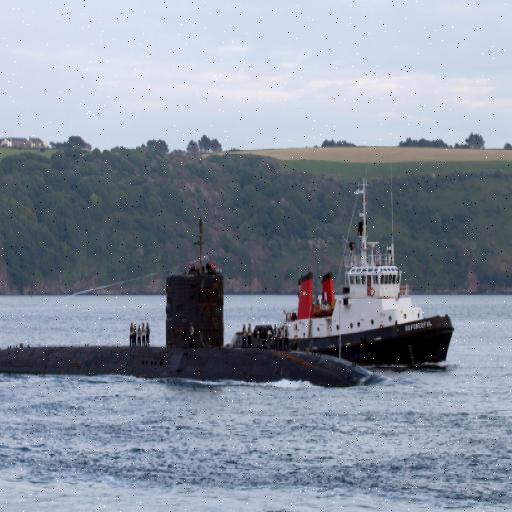submarine: (1, 277, 380, 384)
